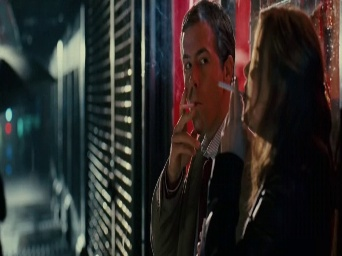smoke: (218, 81, 247, 99), (178, 101, 195, 109)
